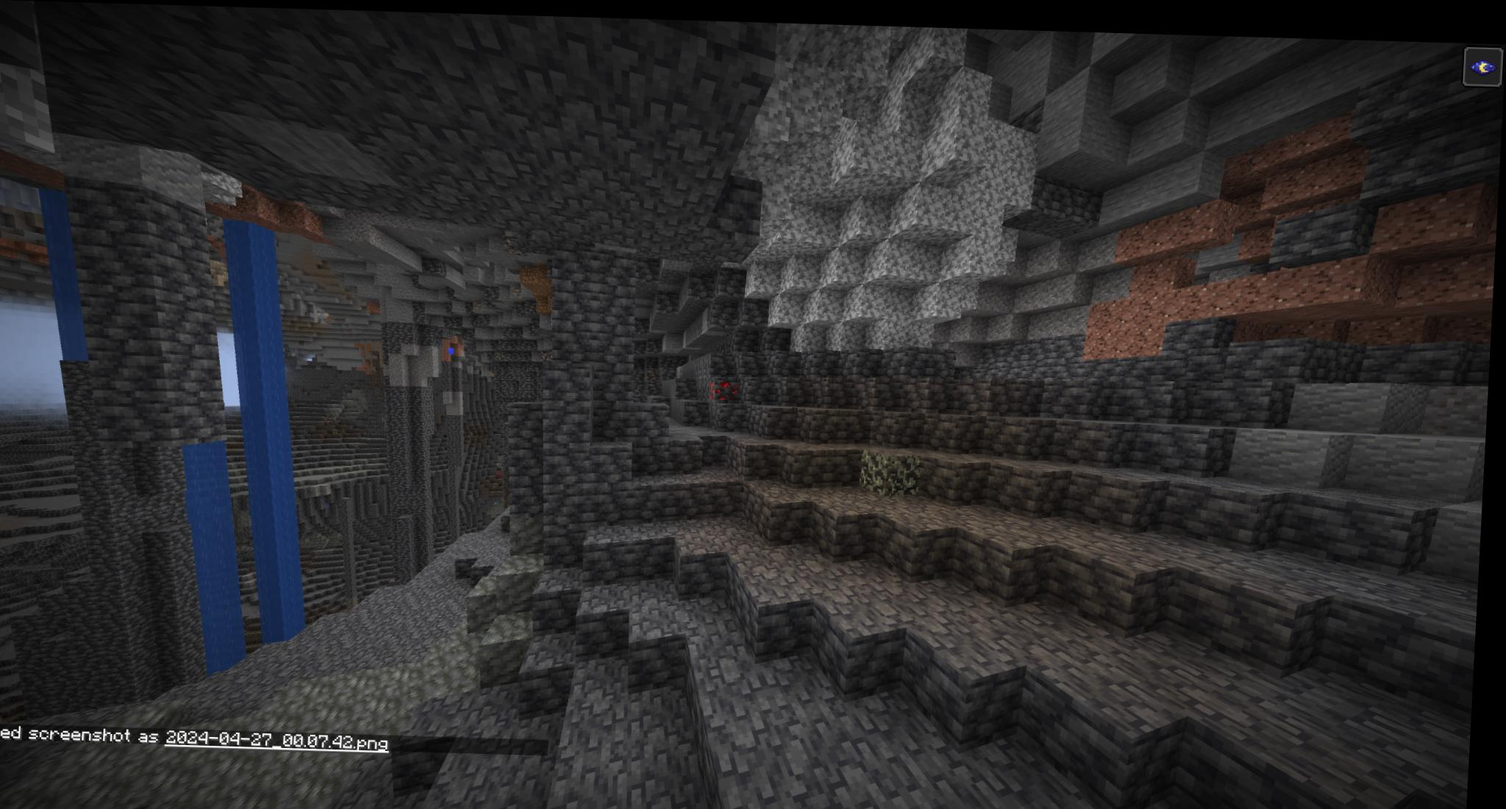redstone ore: (713, 369, 748, 395)
